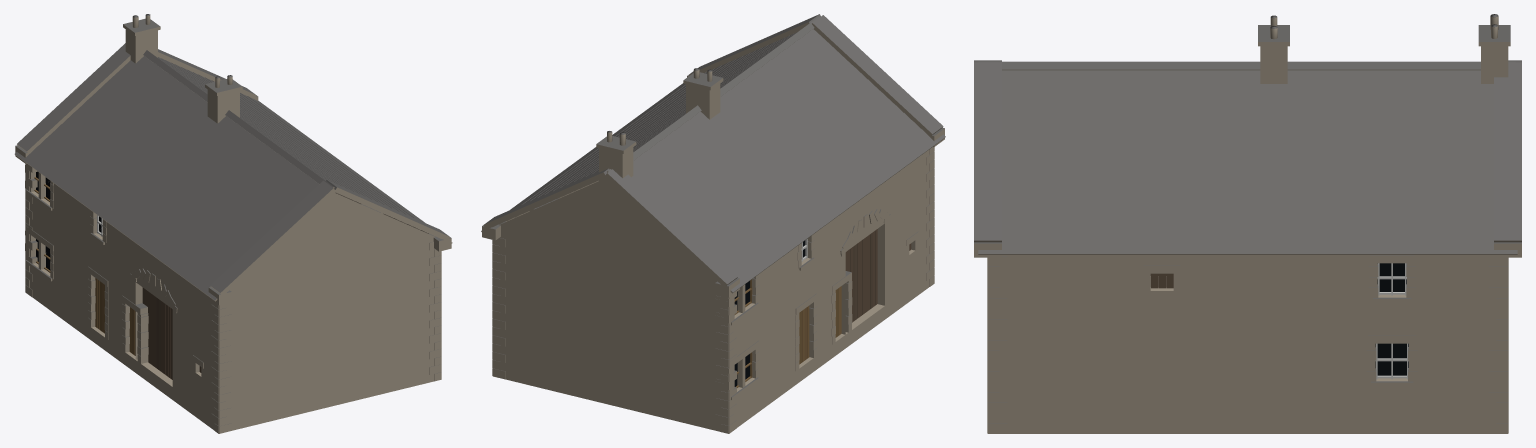
File: context.dales.house_20.glb
3 renders of one model, left to right at view 1: azimuth 30°, elevation 25°; view 2: azimuth 150°, elevation 25°; view 3: azimuth 270°, elevation 25°, orthographic. The views are drawn at different scales.
Visible parts, largest first — view 1: main__stone_a98, main__slate_666, main__paint_654; view 2: main__stone_a98, main__slate_666, main__paint_654, main__paint_764, main__paint_544; view 3: main__slate_666, main__stone_a98, main__glass_dark, main__paint_ccc.
Part boxes in pixels (bbox=[...]): main__stone_a98: bbox=[15, 15, 452, 433]; main__slate_666: bbox=[15, 14, 451, 426]; main__paint_654: bbox=[145, 289, 201, 379]; main__stone_a98: bbox=[481, 22, 944, 433]; main__slate_666: bbox=[482, 14, 945, 425]; main__paint_654: bbox=[845, 229, 911, 322]; main__paint_764: bbox=[734, 279, 836, 387]; main__paint_544: bbox=[853, 232, 872, 321]; main__slate_666: bbox=[974, 14, 1521, 423]; main__stone_a98: bbox=[974, 16, 1521, 433]; main__glass_dark: bbox=[1375, 263, 1408, 375]; main__paint_ccc: bbox=[1376, 263, 1408, 379].
Size of the model in its own units: 9.58 by 9.78 by 14.23.
